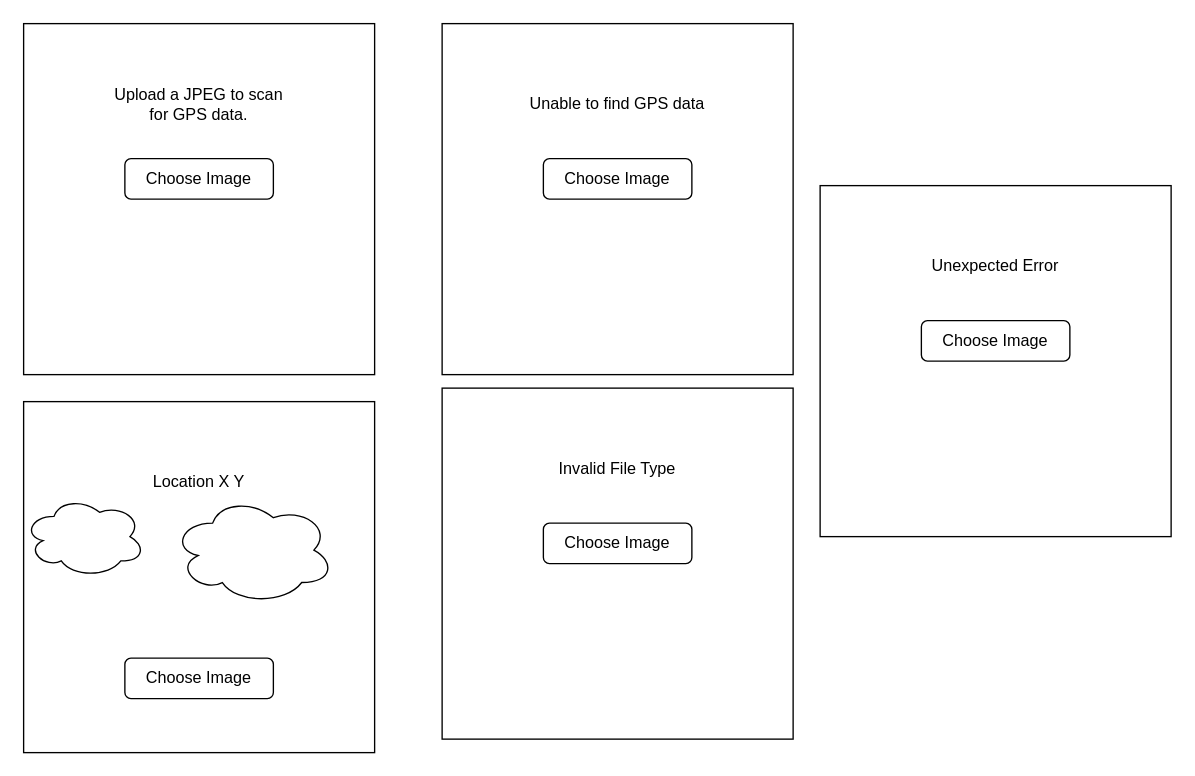
The diagram is 1195 pixels wide and 776 high, and some of its shapes have lost their labels. Each missing label, with the centre of its shape:
Another picture of the place?: (x=83, y=536)
Your uploaded picture: (x=252, y=549)
